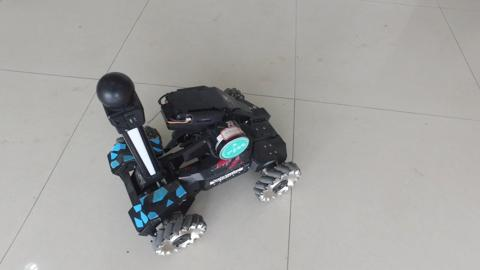chariot: (69, 71, 310, 261)
